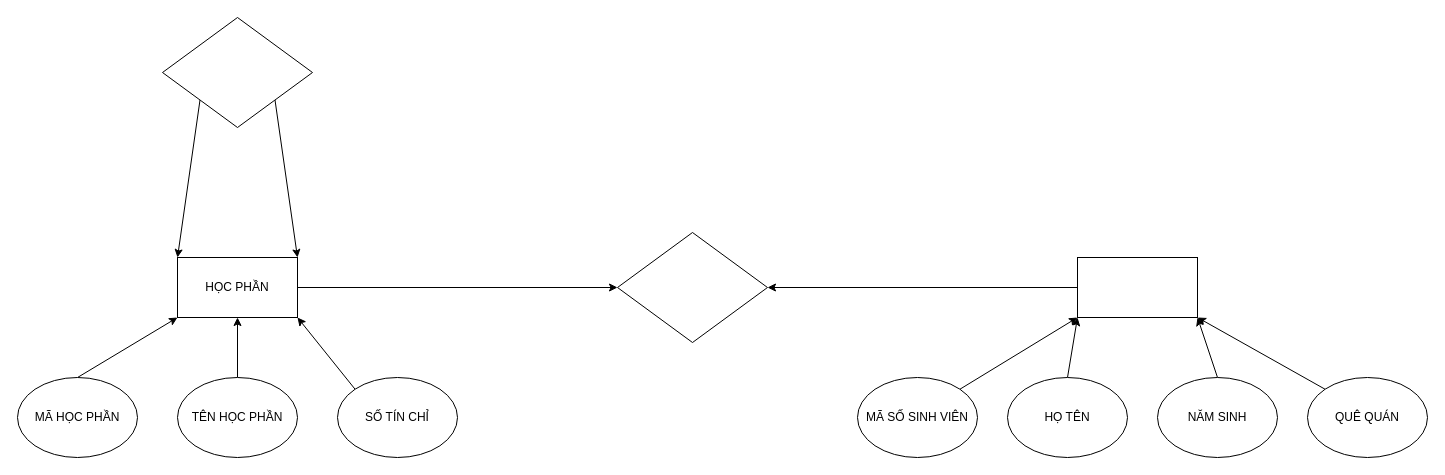
This 1445x475 diagram has some shape labels left out. The shapes that lost their labels are listed below. From the top down, each one's centre as x and y in pixels, then its label:
the point at 237,72: HỌC PHẦN TIÊN QUYẾT
the point at 692,287: ĐĂNG KÝ HỌC
the point at 1137,287: SINH VIÊN
